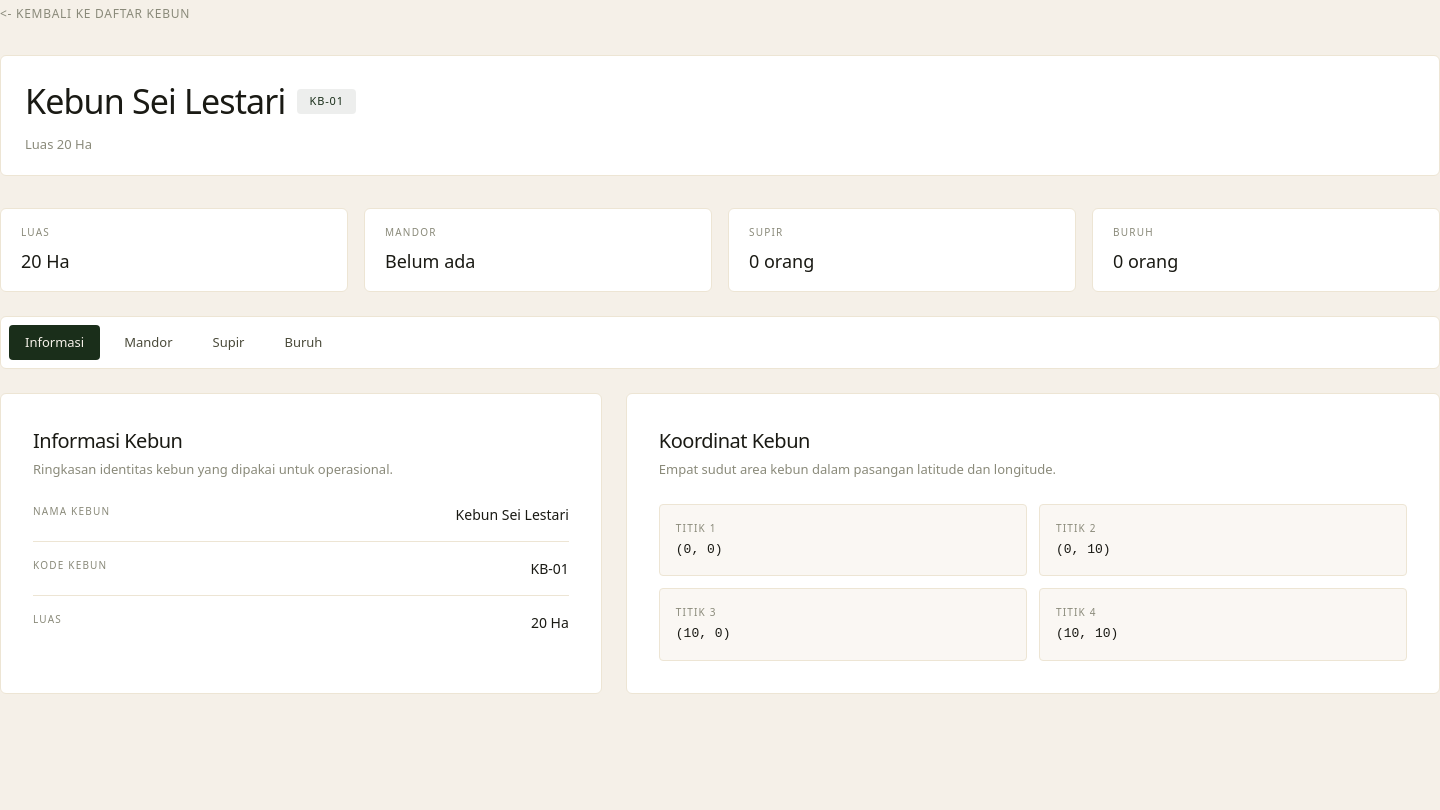
Test case: KebunDetailPage › shows empty states and opens assign mandor modal when no mandor is assigned
Click the button "Mandor": (148, 342) x1=108 y1=324 x2=189 y2=360
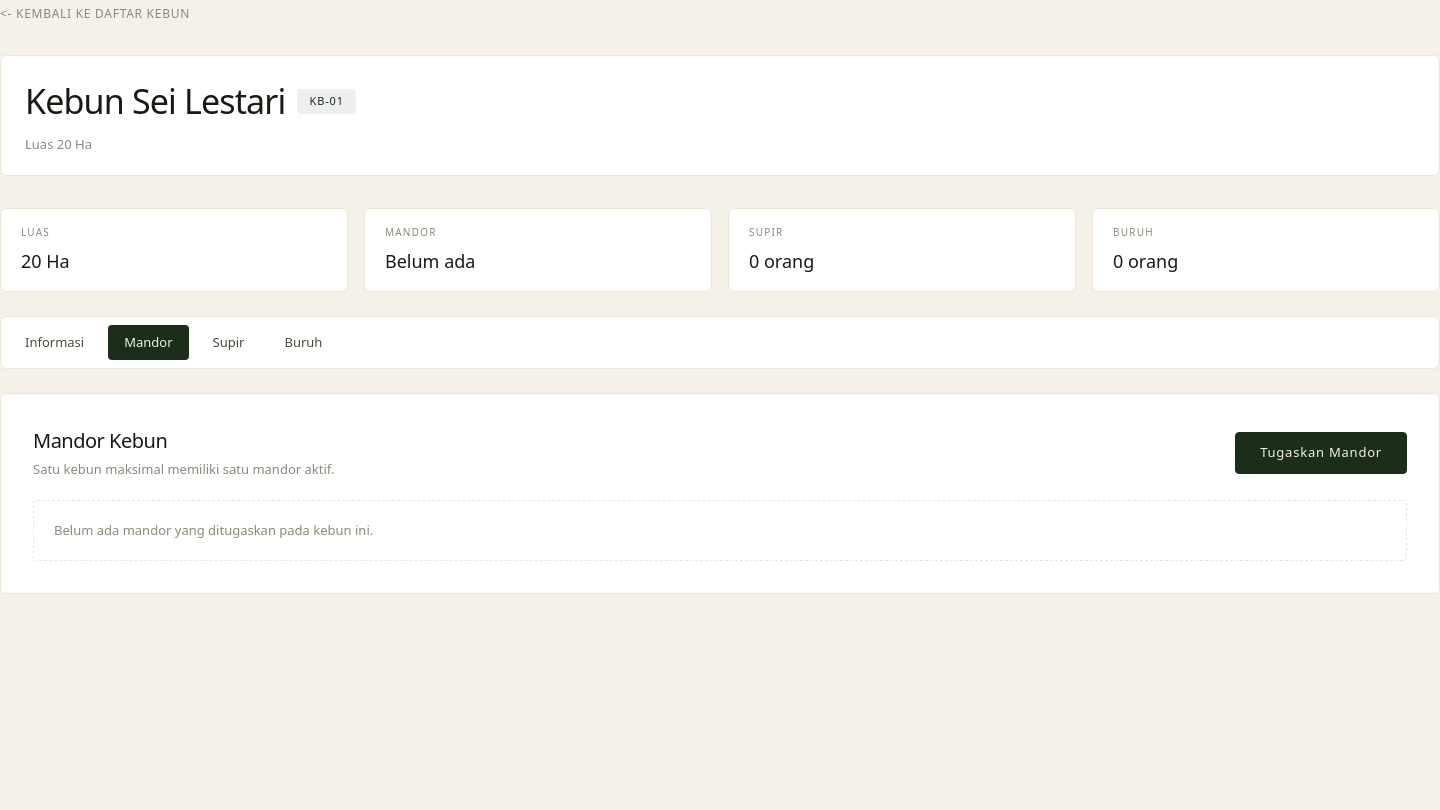
Result: the text "Belum ada mandor yang ditugaskan pada kebun ini." is shown at x1=33 y1=500 x2=1407 y2=561
Click the button "Supir": (228, 342) x1=196 y1=324 x2=260 y2=360
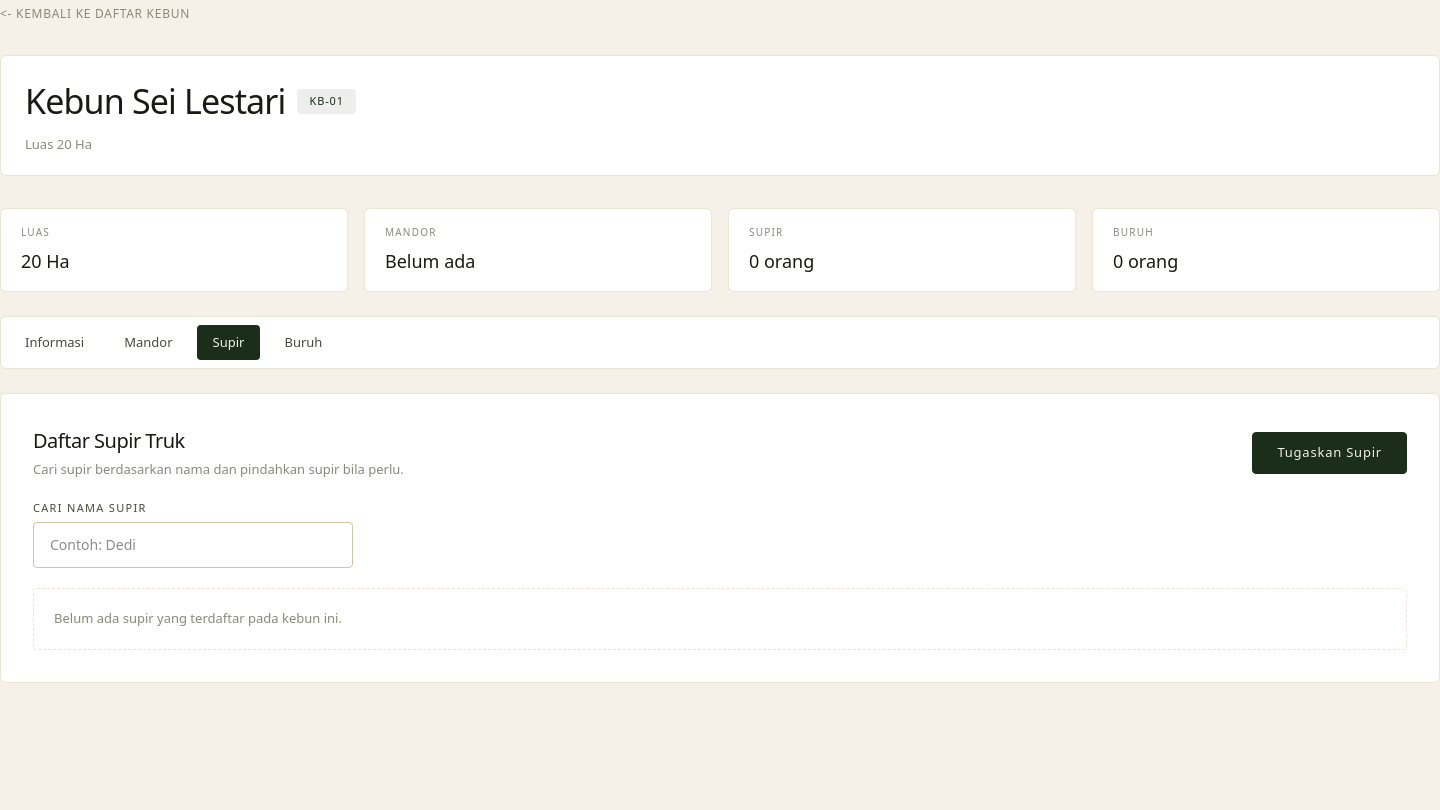
Result: the text "Belum ada supir yang terdaftar pada kebun ini." is shown at x1=33 y1=588 x2=1407 y2=650
Click the button "Buruh": (303, 342) x1=268 y1=324 x2=338 y2=360
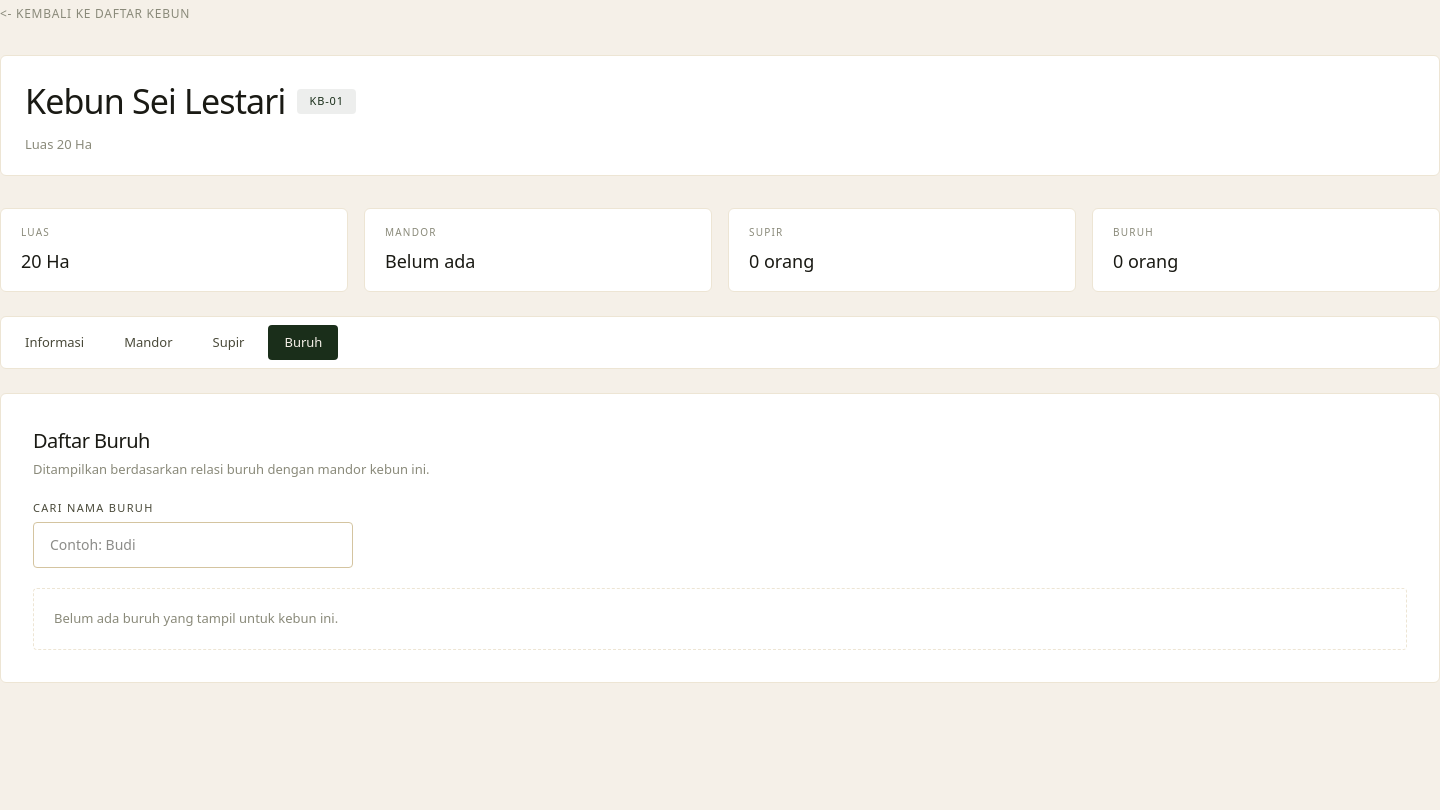
Result: the text "Belum ada buruh yang tampil untuk kebun ini." is shown at x1=33 y1=588 x2=1407 y2=650
Click the button "Mandor": (148, 342) x1=108 y1=324 x2=189 y2=360
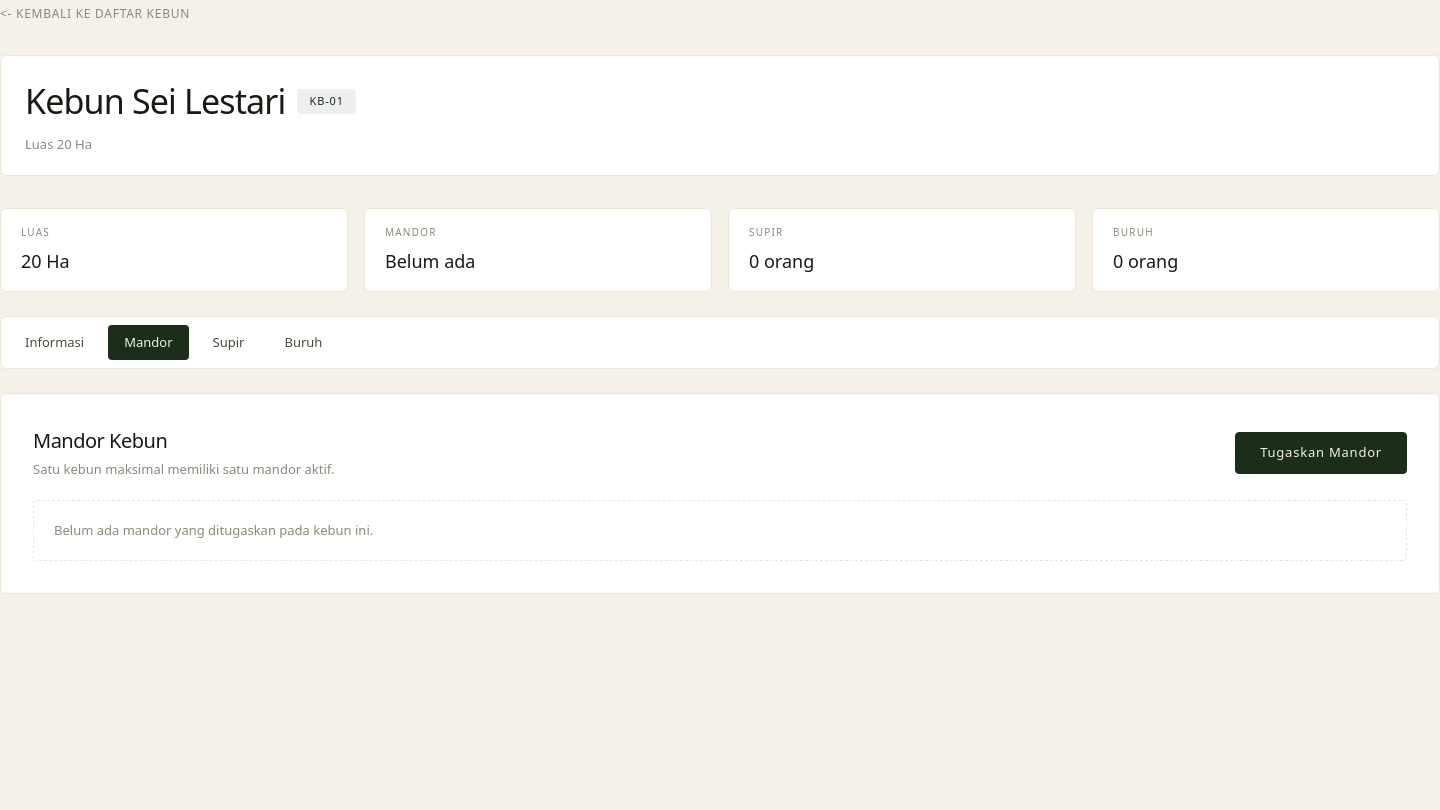
Click the button "Tugaskan Mandor": (1321, 453) x1=1235 y1=432 x2=1407 y2=474
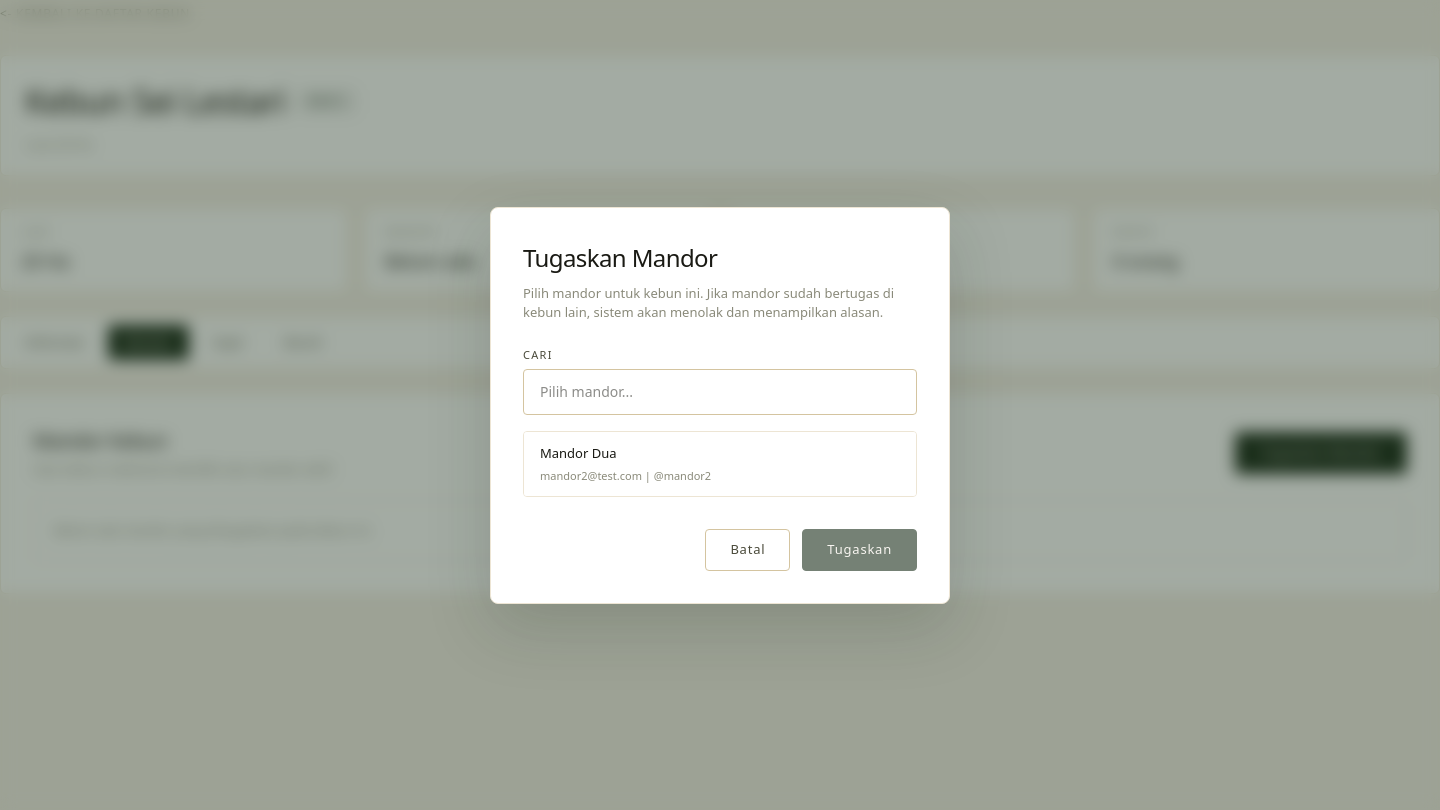
Result: the heading "Tugaskan Mandor" is shown at x1=523 y1=240 x2=717 y2=274
Result: the button "Mandor Dua mandor2@test.com | @mandor2" is shown at x1=524 y1=432 x2=916 y2=496
